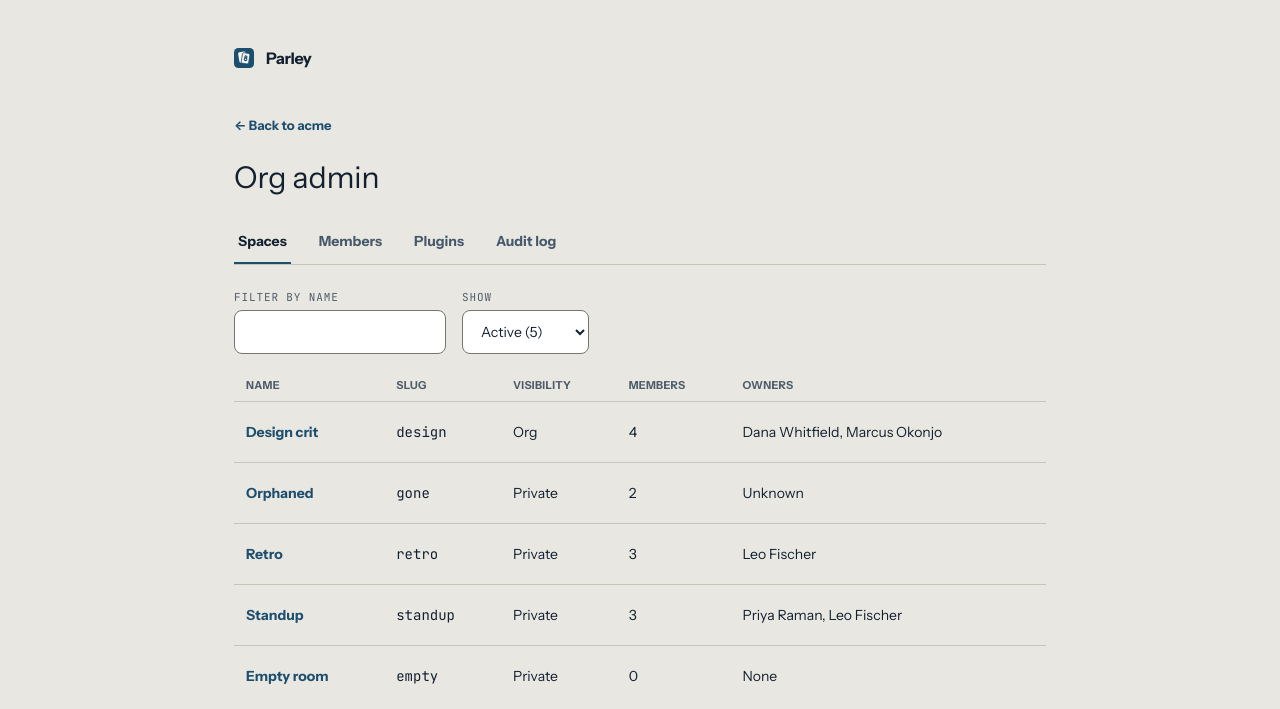
it: org admin hub › space panel › claims an empty space and shows the server's refusal in its words
The image size is (1280, 709).
What coordinates should you click on to do the following:
click the button "Empty room"
I would click on:
 (287, 676)
Its box is [246,654,328,698].
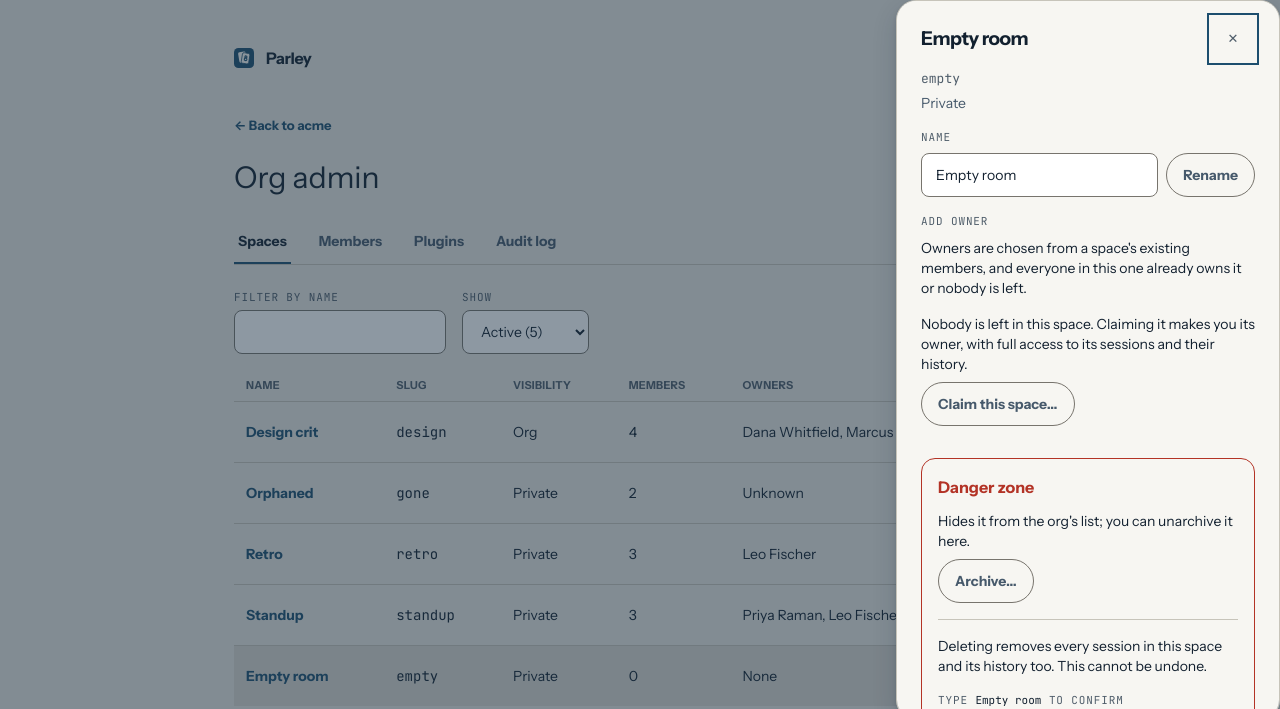
What coordinates should you click on to do the following:
click the button "Claim this space…"
I would click on:
 (998, 404)
Its box is [921,382,1074,426].
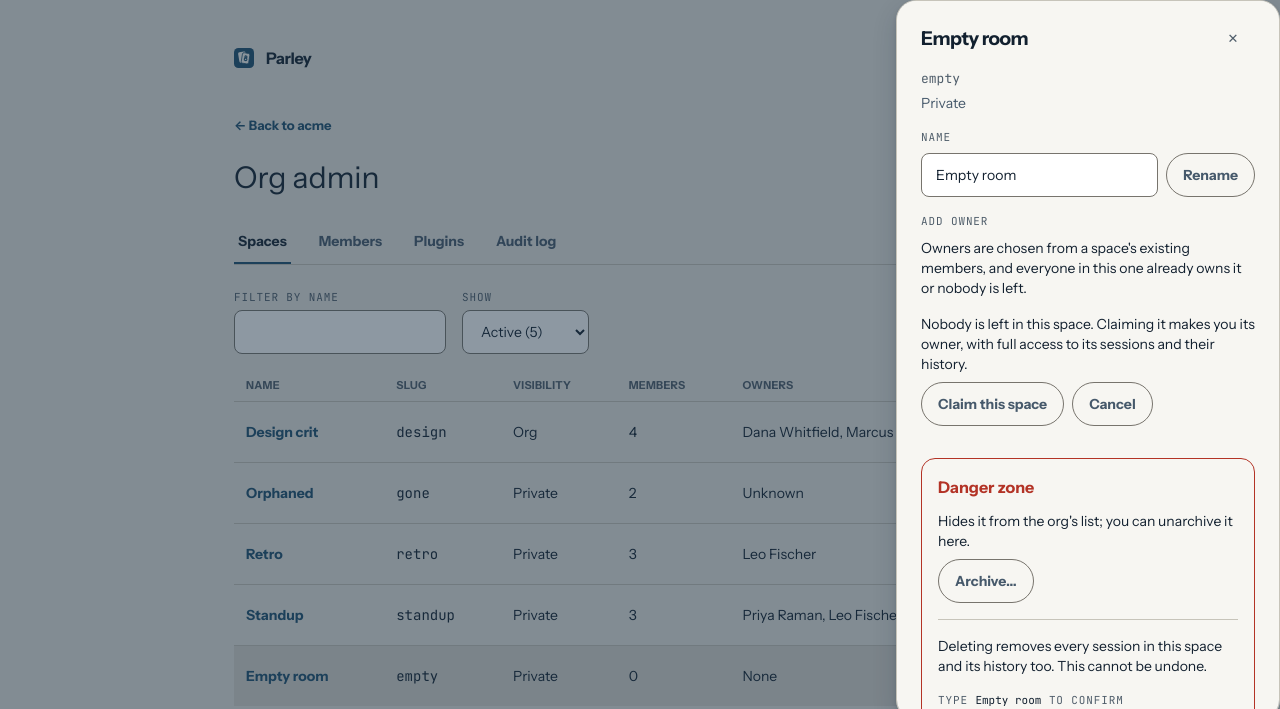
What coordinates should you click on to do the following:
click the button "Claim this space"
I would click on:
 (993, 404)
Its box is [921,382,1064,426].
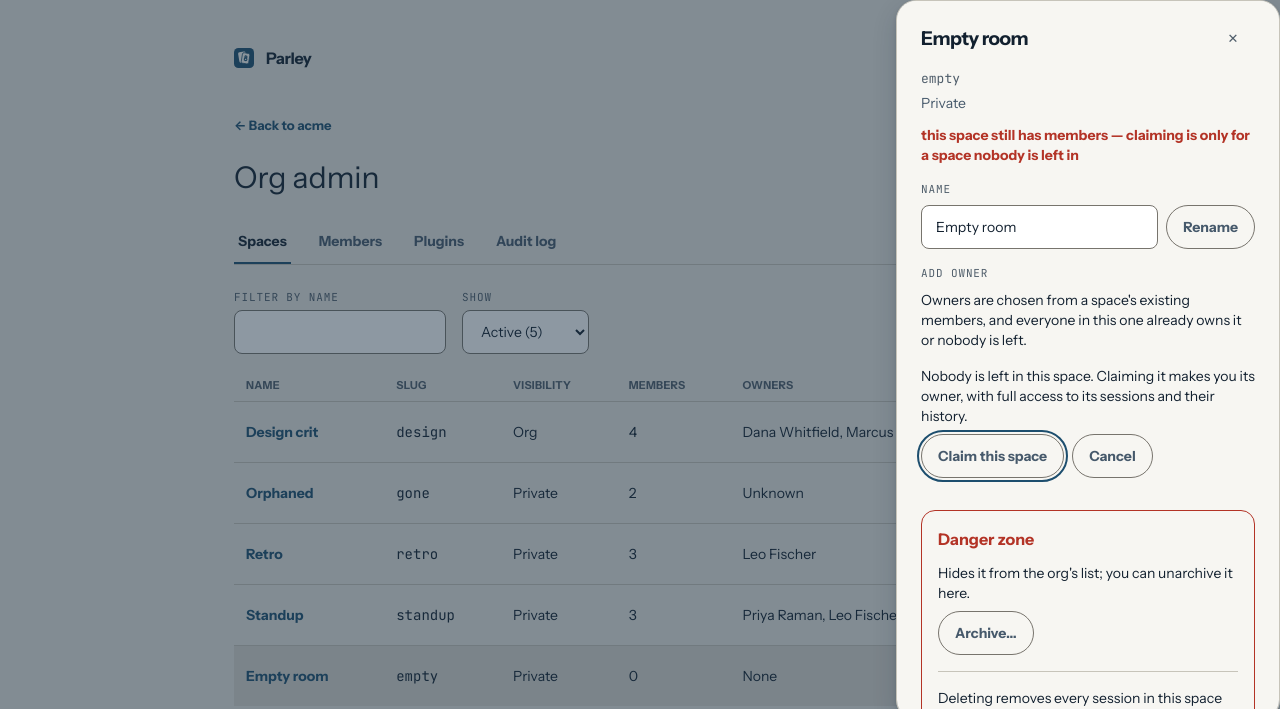
Now the text "this space still has members — claiming is only for a space nobody is left in" is shown, box [921,124,1255,164]
